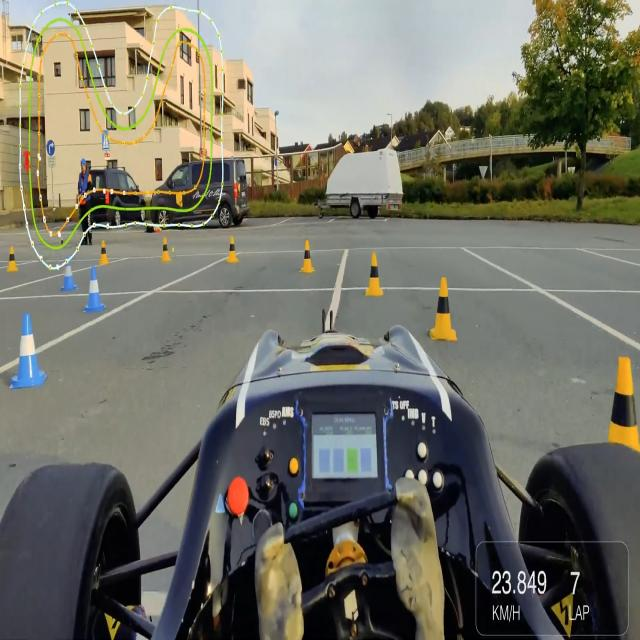blue_cone: (7, 307, 50, 393), (82, 266, 108, 316), (57, 254, 78, 294)
yellow_cone: (601, 354, 640, 490), (428, 270, 460, 344), (364, 248, 387, 300), (299, 236, 316, 276), (6, 241, 22, 275), (96, 236, 112, 269), (224, 234, 240, 266), (159, 234, 173, 265)
